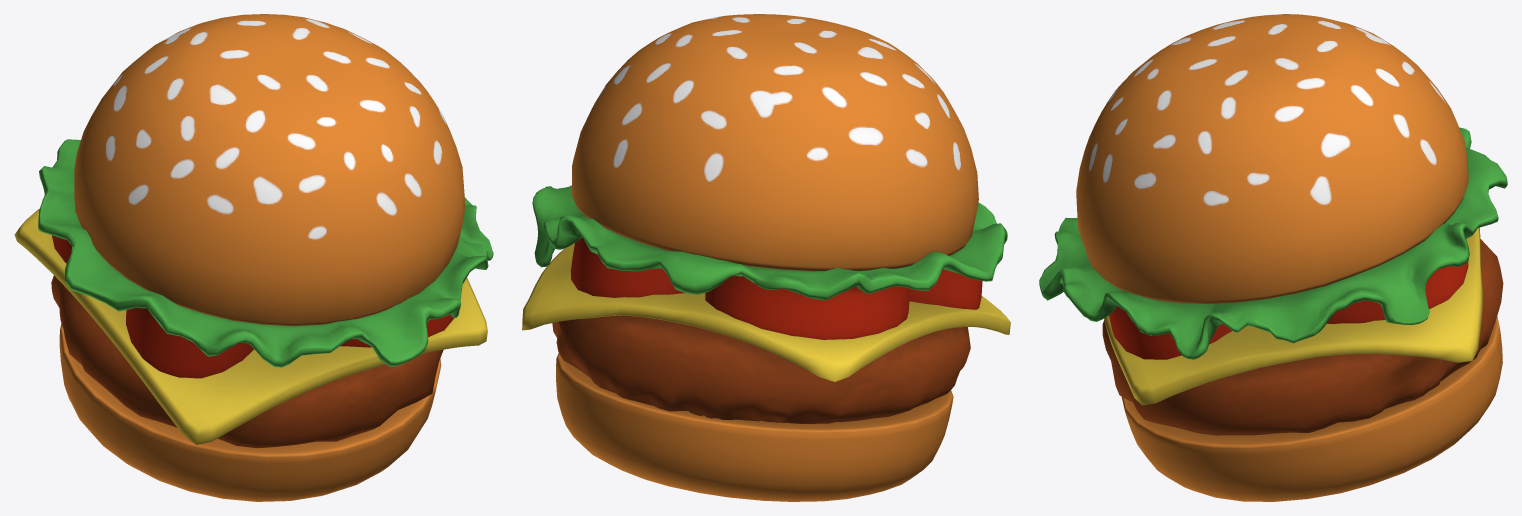
File: burger.glb
The picture shows the model from 3 angles, left to right: view 1: azimuth 30°, elevation 25°; view 2: azimuth 150°, elevation 25°; view 3: azimuth 270°, elevation 25°; orthographic projection. The views are drawn at different scales.
Parts seen in each view (by area): view 1: node_id195_1; view 2: node_id195_1; view 3: node_id195_1.
Part boxes in pixels (box(x1,y1,x2,y2)): node_id195_1: box(14, 14, 493, 501); node_id195_1: box(522, 14, 1010, 501); node_id195_1: box(1039, 14, 1507, 501).
Bounding box in the file's own units: 0.2558 × 0.2527 × 0.2561.
1 material, 1 textured.
